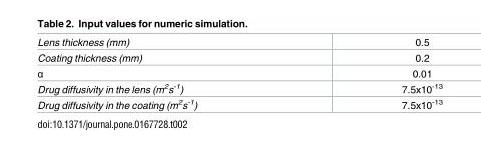table: (36, 37, 441, 110)
table column: (36, 37, 298, 110), (298, 37, 441, 110)
table row: (36, 49, 441, 65), (36, 80, 441, 96), (36, 65, 441, 80), (36, 96, 441, 110), (36, 37, 441, 49)
